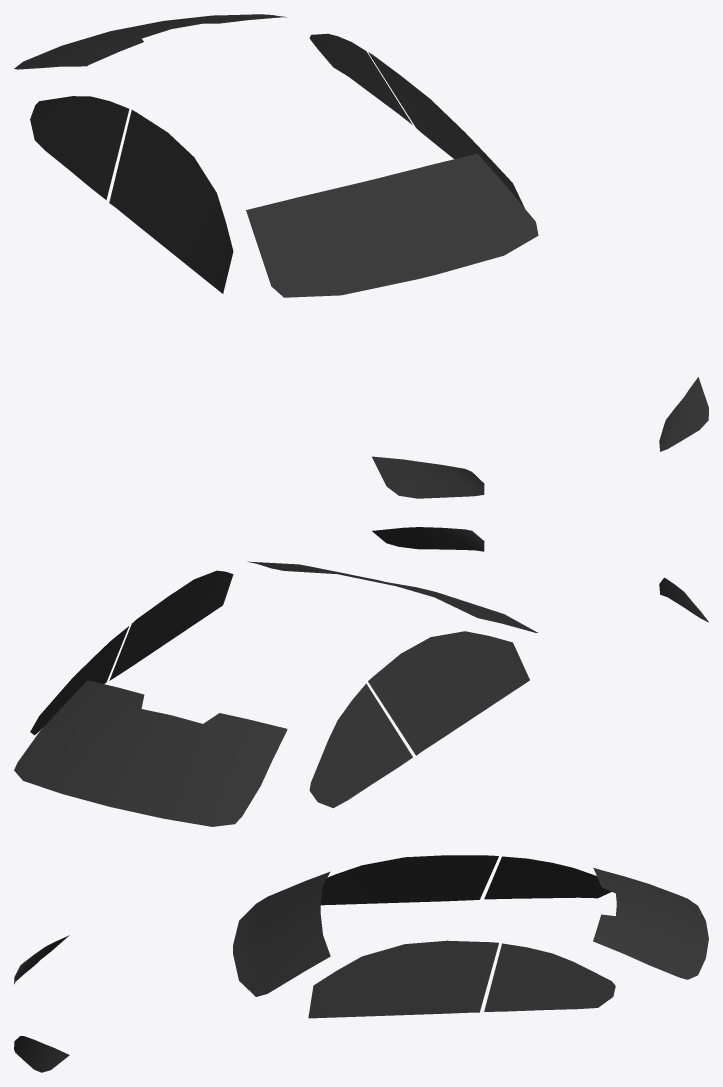
File: XZ_glass_d3.obj
3 views of the same model, one above another, from view 1: azimuth 30°, elevation 25°; view 2: azimuth 150°, elevation 25°; view 3: azimuth 270°, elevation 25° (orthographic). The views are drawn at different scales.
Parts seen in each view (by area): view 1: XZ_glass_XZ_glass_DefaultMaterial; view 2: XZ_glass_XZ_glass_DefaultMaterial; view 3: XZ_glass_XZ_glass_DefaultMaterial.
Part boxes in pixels (left/top/right/bottom): XZ_glass_XZ_glass_DefaultMaterial: left=14, top=14, right=708, bottom=498; XZ_glass_XZ_glass_DefaultMaterial: left=14, top=527, right=708, bottom=826; XZ_glass_XZ_glass_DefaultMaterial: left=14, top=855, right=708, bottom=1072.
Bounding box in the file's own units: 1.57 × 0.7322 × 3.85.
Materials: 1 (1 with a texture image).
